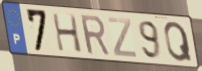7: (24, 7, 49, 53)
9: (138, 19, 163, 60)
H: (50, 12, 84, 54)
Q: (163, 21, 194, 64)
R: (78, 14, 112, 57)
Z: (106, 16, 138, 59)
